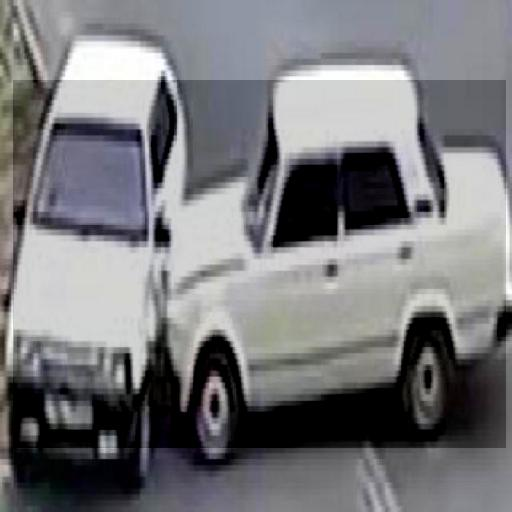小汽车撞小汽车: (13, 80, 506, 448)
